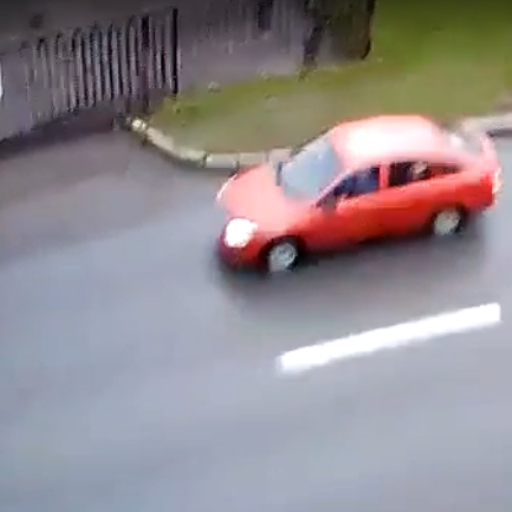Car: (209, 112, 497, 268)
